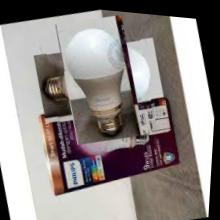Bulb: (40, 15, 160, 138)
